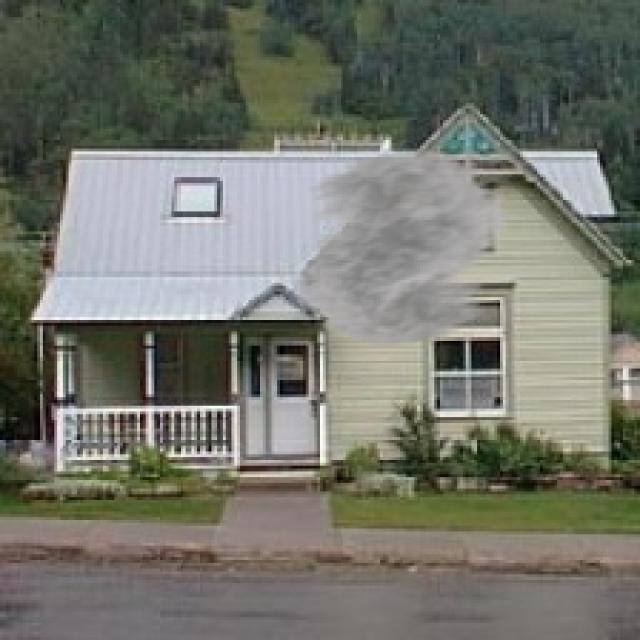smoke: (263, 148, 531, 348)
